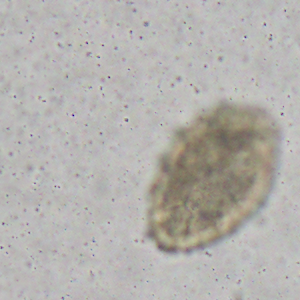Fasciola_hepatica_egg: (147, 101, 279, 254)
